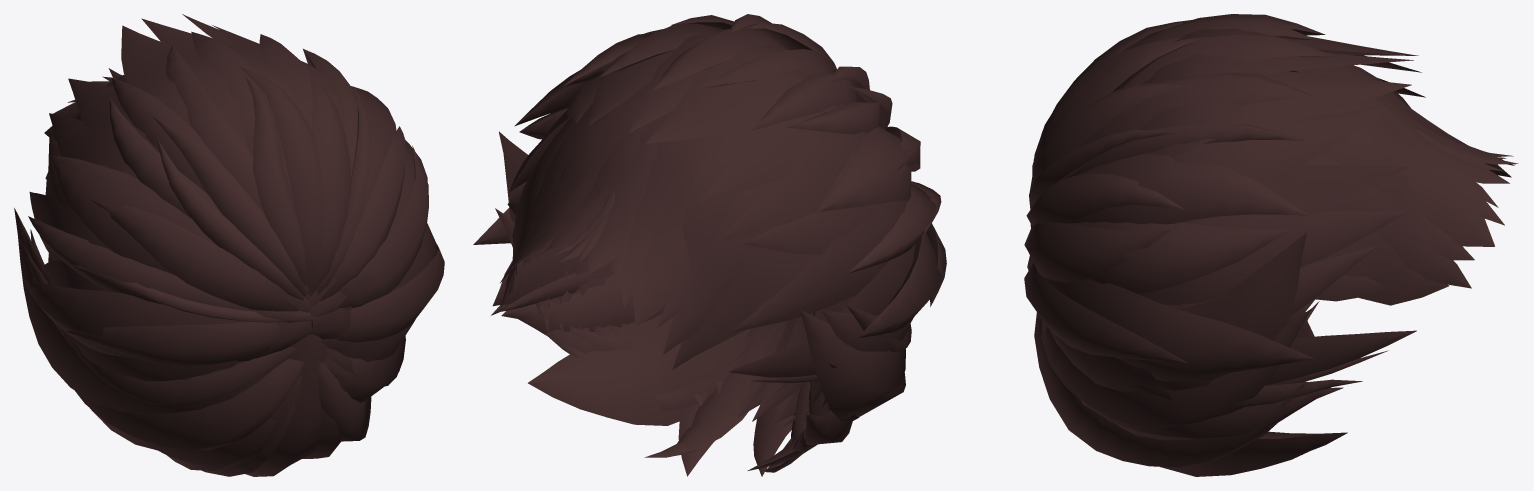
File: hair.glb
3 renders of one model, left to right at view 1: azimuth 30°, elevation 25°; view 2: azimuth 150°, elevation 25°; view 3: azimuth 270°, elevation 25°, orthographic. The views are drawn at different scales.
Visible parts, largest first — view 1: hair; view 2: hair; view 3: hair.
Boxes of the visible parts, left/top/right/bottom form: hair: left=14, top=14, right=444, bottom=476; hair: left=473, top=14, right=946, bottom=476; hair: left=1024, top=14, right=1518, bottom=476.
Size of the model in its own units: 1.39 by 1.4 by 1.6.
1 material, 1 textured.
